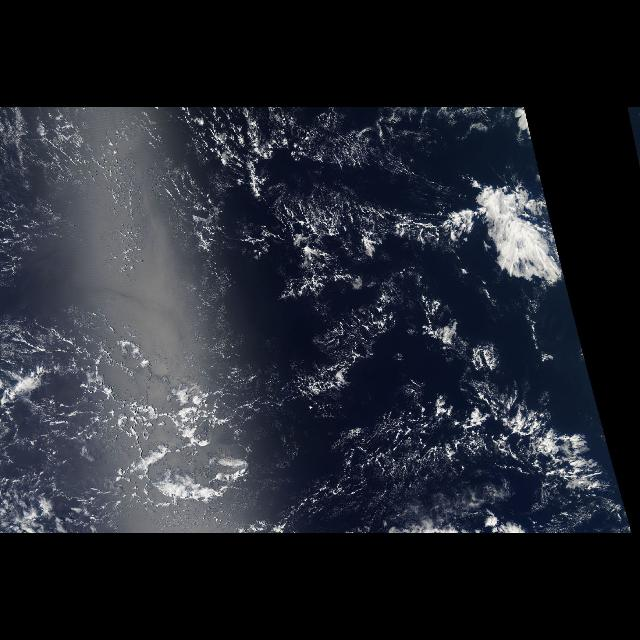Flower: (418, 146, 612, 504)
Gravel: (15, 322, 269, 522), (328, 376, 520, 532)
